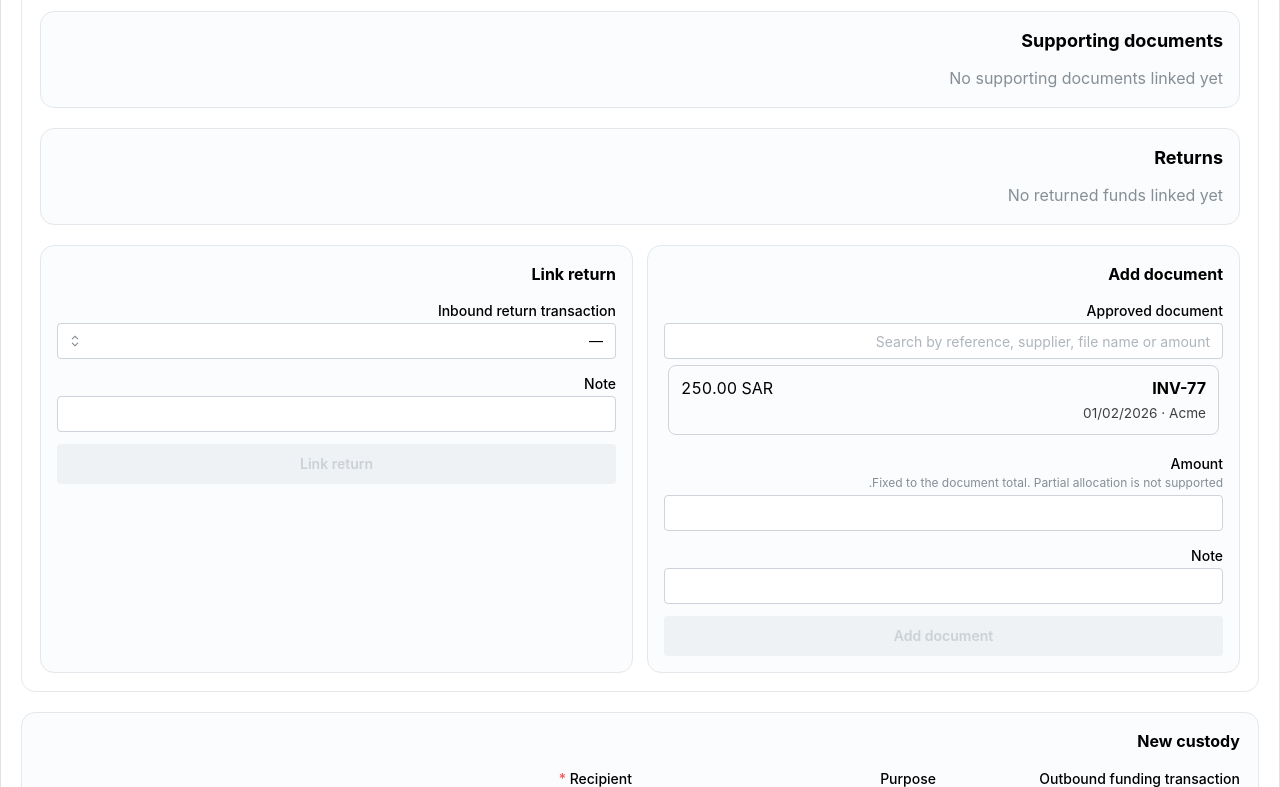
CustodyPanel document allocation › keeps the selected document, amount and note when the request fails, and clears them only after success
The width and height of the screenshot is (1280, 787).
(page scrolled)
Click the button "INV-77 Acme · 01/02/2026 250.00 SAR" at (1179, 388), box [668,365,1219,435]
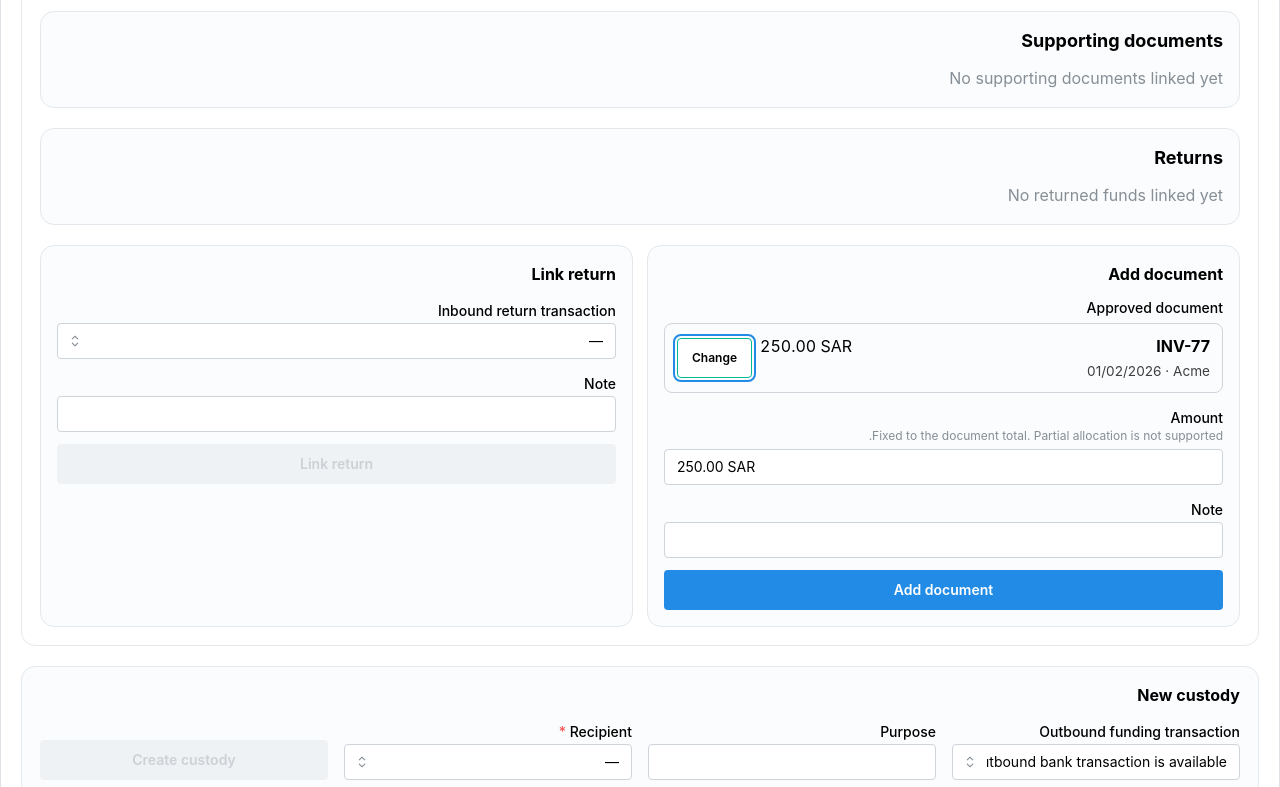
Expected: the button "Change" is shown, [677,338,752,378]
Type "taxi to client" into the field labelled "Note" below "Amount" at (944, 540), box [664,522,1223,558]
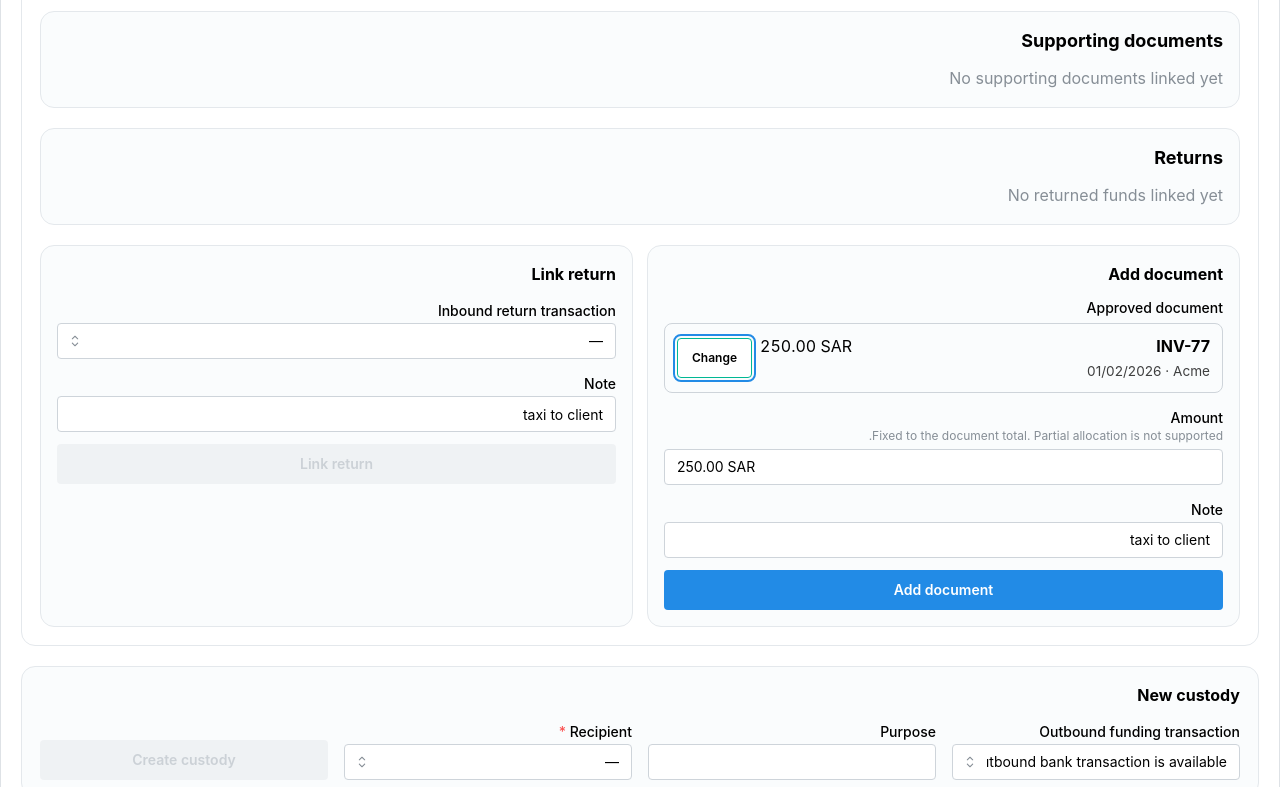
Click the button "Add document" at (944, 590), box [664,570,1223,610]
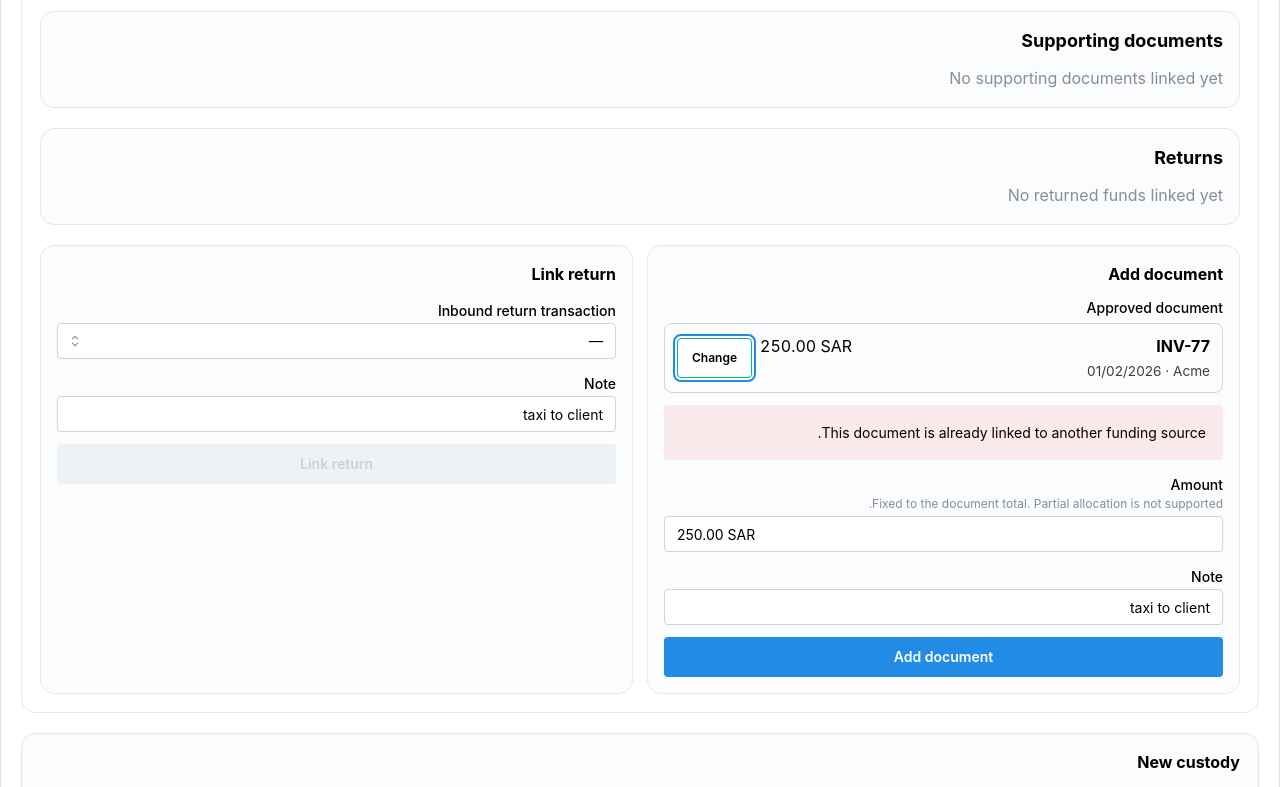
Expected: the button "Change" is shown, [677,338,752,378]
Expected: the field labelled "Amount" holds "250.00 SAR", [664,516,1223,552]
Expected: the message shows "already linked to another funding source", [818,424,1206,441]
Click the button "Add document" at (944, 657), box [664,637,1223,677]
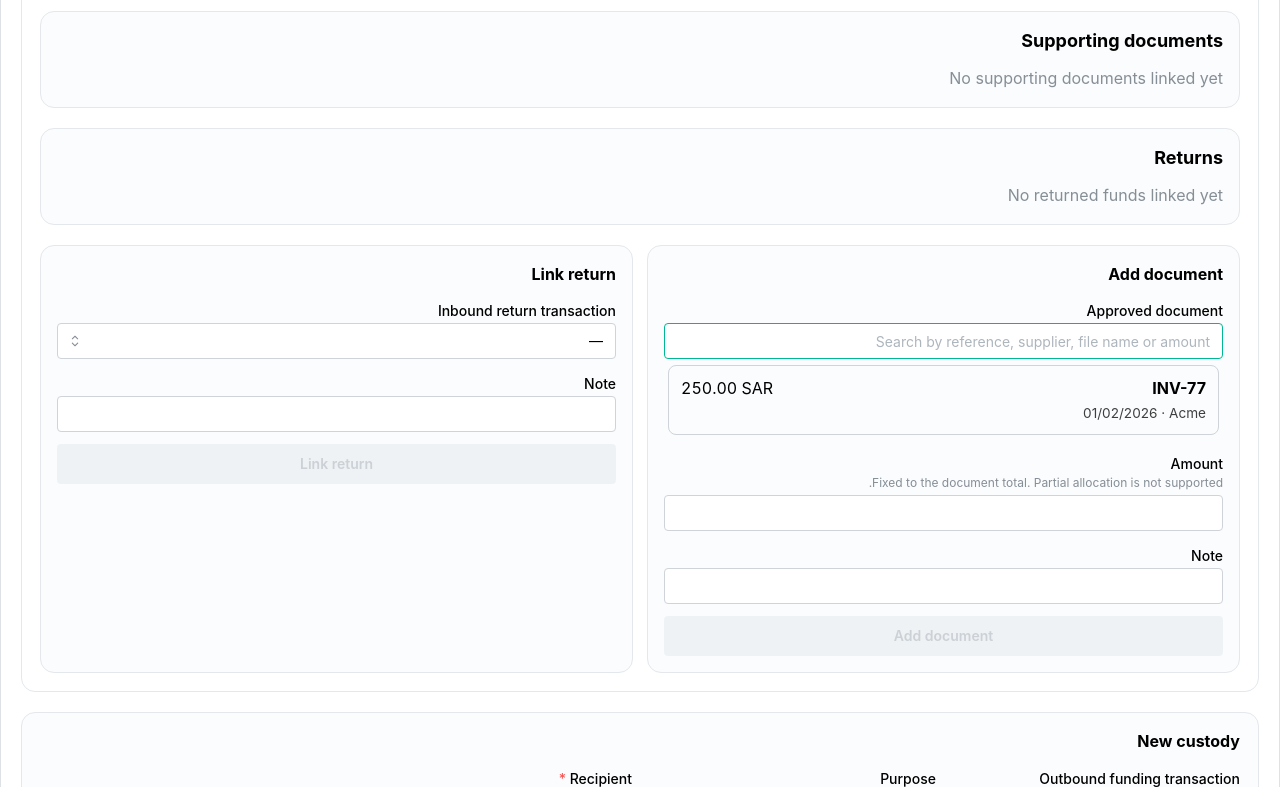
Expected: the button "Change" is gone
Expected: the field labelled "Amount" is empty, [664,495,1223,531]
Expected: the field labelled "Note" below "Amount" is empty, [664,568,1223,604]
